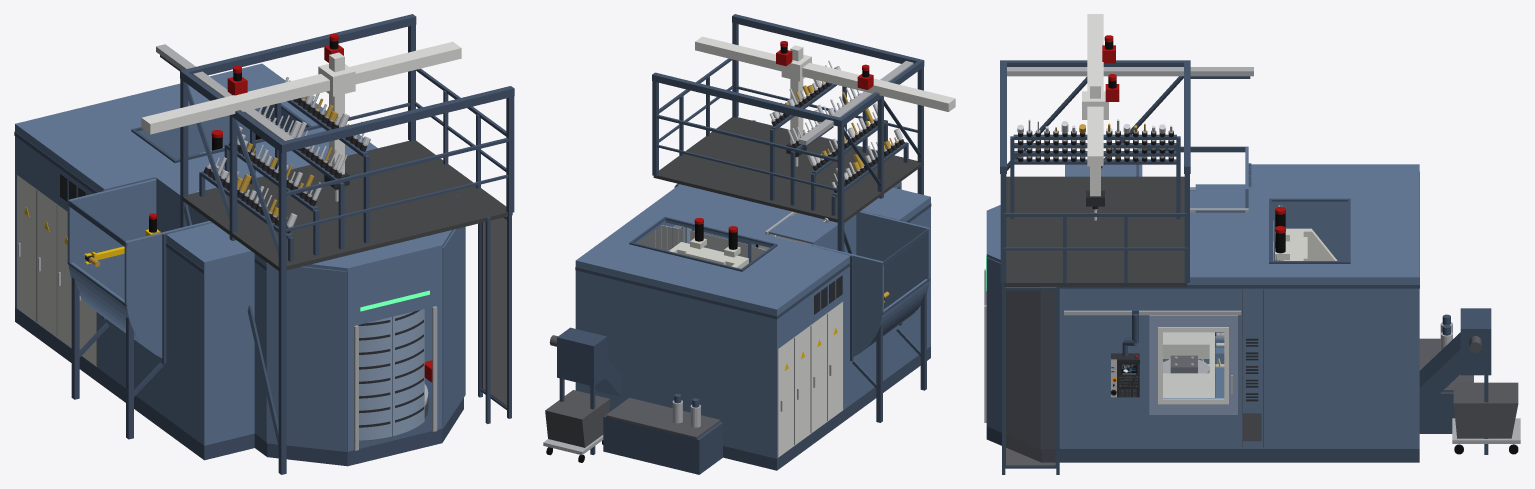
Rendered from hmc_x1200_4ax_blue_right_topmag.glb.
The picture shows the model from 3 angles, left to right: view 1: azimuth 30°, elevation 25°; view 2: azimuth 150°, elevation 25°; view 3: azimuth 270°, elevation 25°; orthographic projection. The views are drawn at different scales.
Parts seen in each view (by area): view 1: enclosure__fms_blue, apc_housing__fms_blue, tool_magazine_top__fms_blue_dk, tool_magazine_top__grating, tc_box__fms_blue, electrical_cabinet__hmc_white, tm_carriage__hmc_white, enclosure__fms_blue_dk, tool_magazine_top__mesh, apc_housing__fms_blue_dk, apc_door_left__door_blue, apc_door_right__door_blue (+12 smaller); view 2: enclosure__fms_blue, tool_magazine_top__fms_blue_dk, tool_magazine_top__grating, tc_box__fms_blue, chip_coolant__fms_blue_dk, electrical_cabinet__hmc_white, enclosure__fms_blue_dk, tm_carriage__hmc_white, chip_cart__steel_dark, chip_coolant__anthracite_lt, tc_box__fms_blue_dk, tool_magazine_top__tool_bright (+12 smaller); view 3: enclosure__fms_blue, tool_magazine_top__grating, tool_magazine_top__fms_blue_dk, apc_housing__fms_blue, tool_magazine_top__mesh, enclosure__fms_blue_dk, chip_coolant__fms_blue_dk, operator_door__glass_clear, operator_door__door_blue, chip_cart__steel_dark, tool_magazine_top__steel, table__struct_grey (+13 smaller).
Part boxes in pixels (x1,y1,x2,y2): enclosure__fms_blue: (15, 63, 432, 445); apc_housing__fms_blue: (254, 226, 465, 451); tool_magazine_top__fms_blue_dk: (160, 14, 514, 474); tool_magazine_top__grating: (182, 140, 512, 271); tc_box__fms_blue: (67, 178, 211, 357); electrical_cabinet__hmc_white: (17, 175, 96, 366); tm_carriage__hmc_white: (141, 41, 461, 134); enclosure__fms_blue_dk: (14, 104, 311, 460); tool_magazine_top__mesh: (481, 217, 506, 406); apc_housing__fms_blue_dk: (254, 258, 463, 466); apc_door_left__door_blue: (359, 317, 392, 440); apc_door_right__door_blue: (392, 309, 424, 435); enclosure__fms_blue: (575, 184, 930, 458); tool_magazine_top__fms_blue_dk: (652, 14, 924, 253); tool_magazine_top__grating: (653, 117, 922, 222); tc_box__fms_blue: (810, 211, 930, 356); chip_coolant__fms_blue_dk: (557, 327, 722, 474); electrical_cabinet__hmc_white: (778, 301, 843, 457); enclosure__fms_blue_dk: (575, 203, 931, 470); tm_carriage__hmc_white: (695, 36, 955, 111); chip_cart__steel_dark: (545, 390, 610, 447); chip_coolant__anthracite_lt: (606, 398, 720, 439); tc_box__fms_blue_dk: (852, 227, 930, 422); tool_magazine_top__tool_bright: (769, 60, 902, 186); enclosure__fms_blue: (1065, 164, 1419, 448); tool_magazine_top__grating: (1003, 176, 1187, 286); tool_magazine_top__fms_blue_dk: (1000, 60, 1250, 474); apc_housing__fms_blue: (986, 205, 1064, 448); tool_magazine_top__mesh: (1006, 290, 1055, 465); enclosure__fms_blue_dk: (1065, 163, 1419, 462); chip_coolant__fms_blue_dk: (1419, 308, 1491, 454); operator_door__glass_clear: (1163, 333, 1223, 398); operator_door__door_blue: (1149, 315, 1237, 414); chip_cart__steel_dark: (1453, 382, 1518, 438); tool_magazine_top__steel: (1007, 67, 1253, 158); table__struct_grey: (1163, 332, 1214, 397).
Size of the model in its own units: 5.14 by 5.58 by 7.86.
25 materials, 2 textured.
